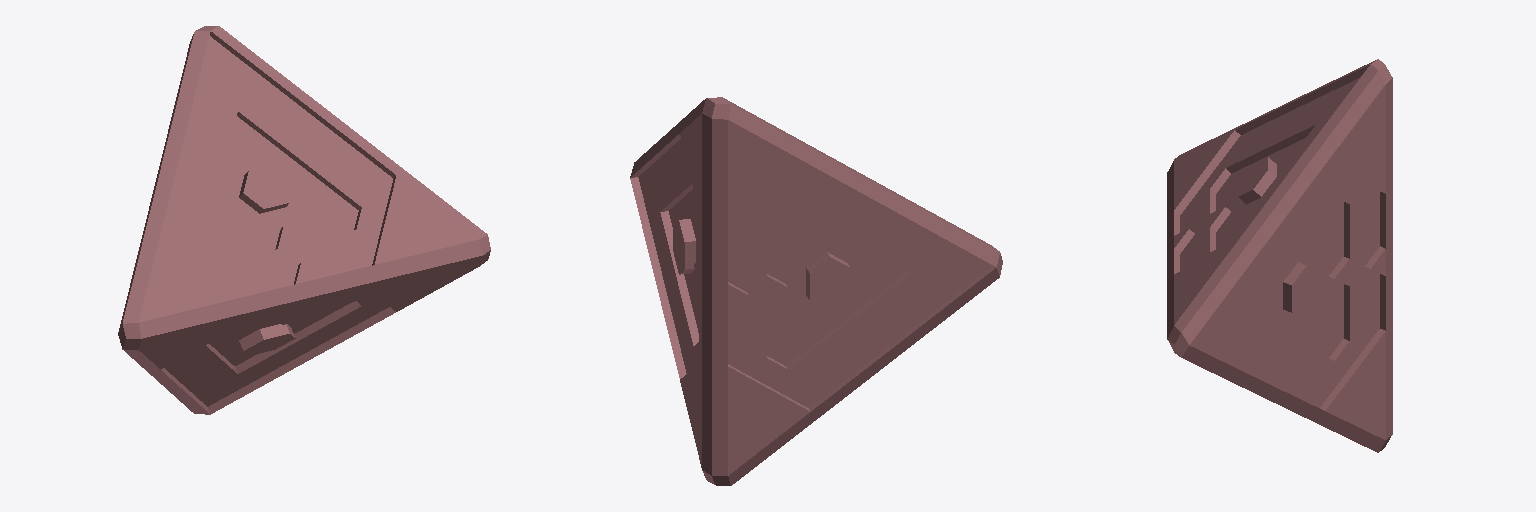
The model's file is heart3.obj.
3 views of the same model, side by side, from view 1: azimuth 30°, elevation 25°; view 2: azimuth 150°, elevation 25°; view 3: azimuth 270°, elevation 25° (orthographic).
Parts seen in each view (by area): view 1: Cube_Cube.006; view 2: Cube_Cube.006; view 3: Cube_Cube.006.
Part boxes in pixels (bbox=[...]): Cube_Cube.006: bbox=[118, 26, 490, 414]; Cube_Cube.006: bbox=[630, 97, 1002, 485]; Cube_Cube.006: bbox=[1167, 59, 1392, 452].
Bounding box in the file's own units: 3.5 × 3.5 × 1.86.